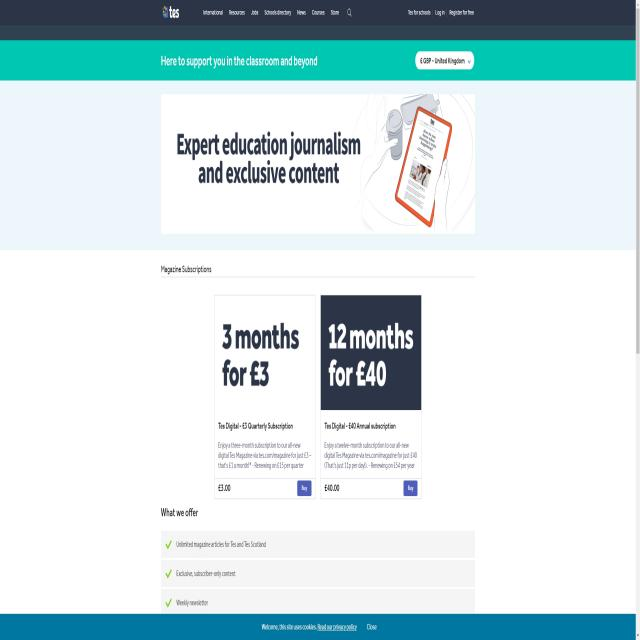menu-bar: (407, 5, 478, 19)
tab-bar: (200, 2, 356, 20)
